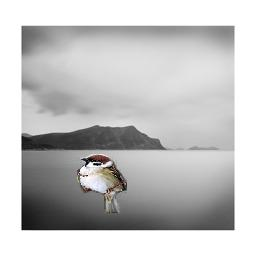Sparrow: (77, 155, 127, 214)
